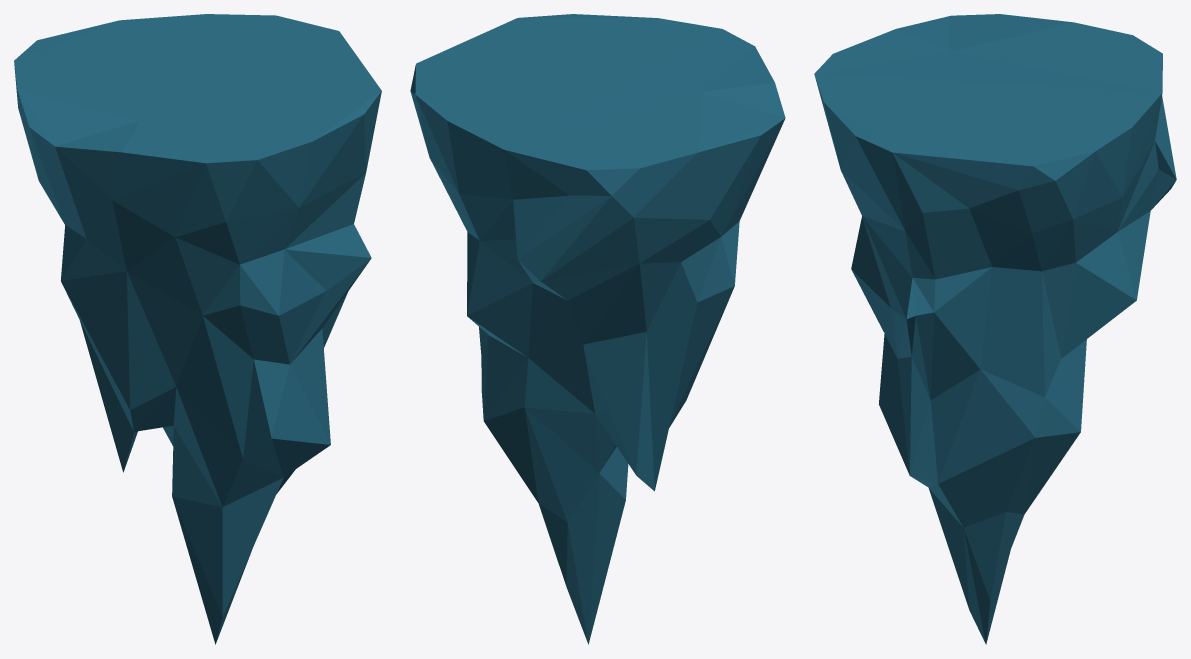
Rendered from FloatingLand03.fbx.
3 views of the same model, side by side, from view 1: azimuth 30°, elevation 25°; view 2: azimuth 150°, elevation 25°; view 3: azimuth 270°, elevation 25° (orthographic). The views are drawn at different scales.
Visible parts, largest first — view 1: Icosphere.014; view 2: Icosphere.014; view 3: Icosphere.014.
Boxes of the visible parts, x1,y1,x2,y2 form: Icosphere.014: (14, 14, 381, 644); Icosphere.014: (410, 14, 785, 644); Icosphere.014: (814, 14, 1176, 644).
Bounding box in the file's own units: 109 × 178 × 106.
